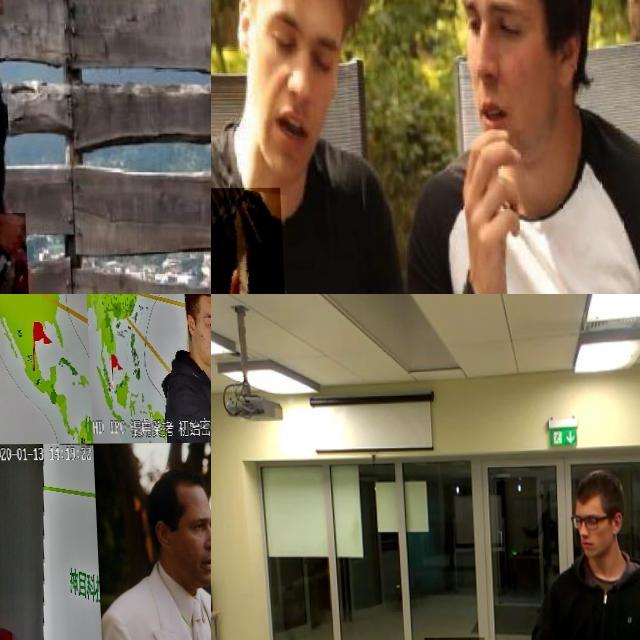-: (211, 188, 284, 294), (0, 213, 28, 294)
gun-knife-thesis - v11 Yolov5 augmented: (0, 294, 21, 353)
